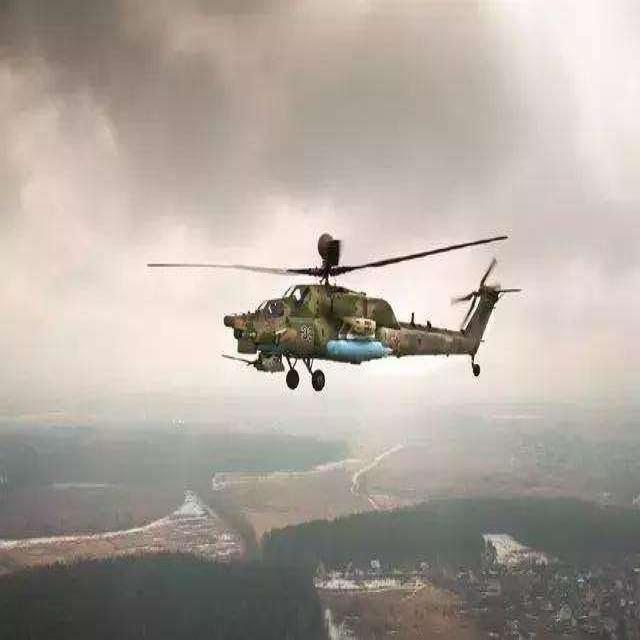MIL_HELO: (136, 192, 538, 403)
